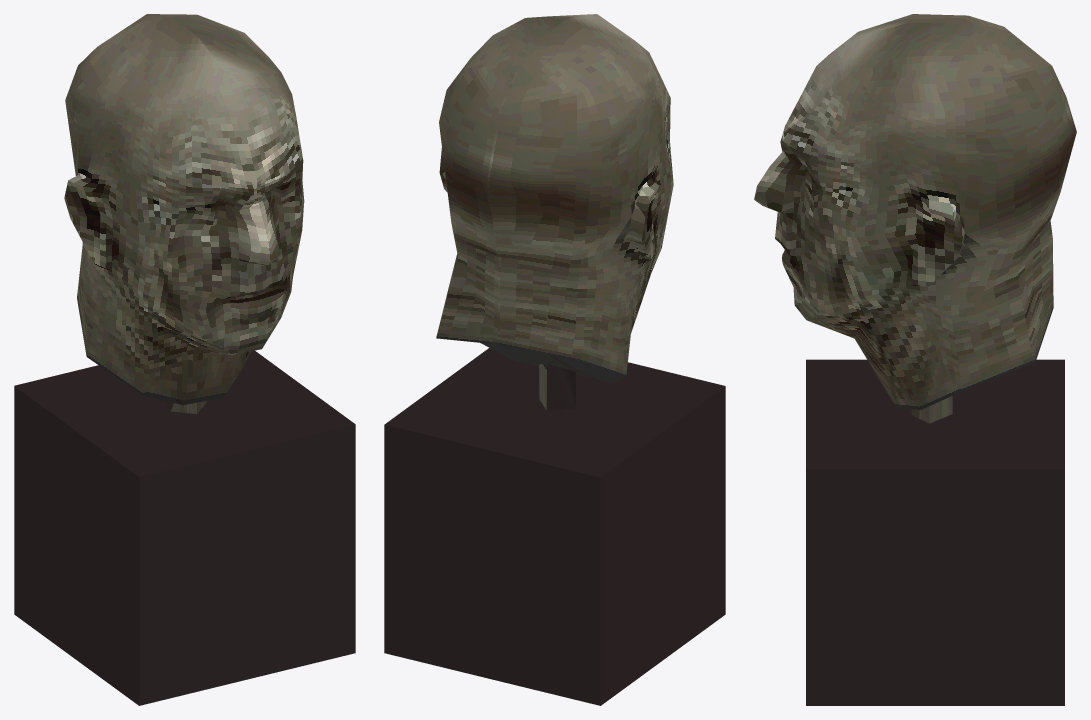
File: ps2_save-icons_the-getaway.glb
3 views of the same model, side by side, from view 1: azimuth 30°, elevation 25°; view 2: azimuth 150°, elevation 25°; view 3: azimuth 270°, elevation 25° (orthographic). The views are drawn at different scales.
Parts seen in each view (by area): view 1: The Getaway; view 2: The Getaway; view 3: The Getaway.
Boxes of the visible parts, <box> form: The Getaway: <box>14,14,355,705</box>; The Getaway: <box>384,14,725,705</box>; The Getaway: <box>754,14,1076,705</box>.
Bounding box in the file's own units: 1.84 × 4.93 × 2.3.
Materials: 1 (1 with a texture image).
